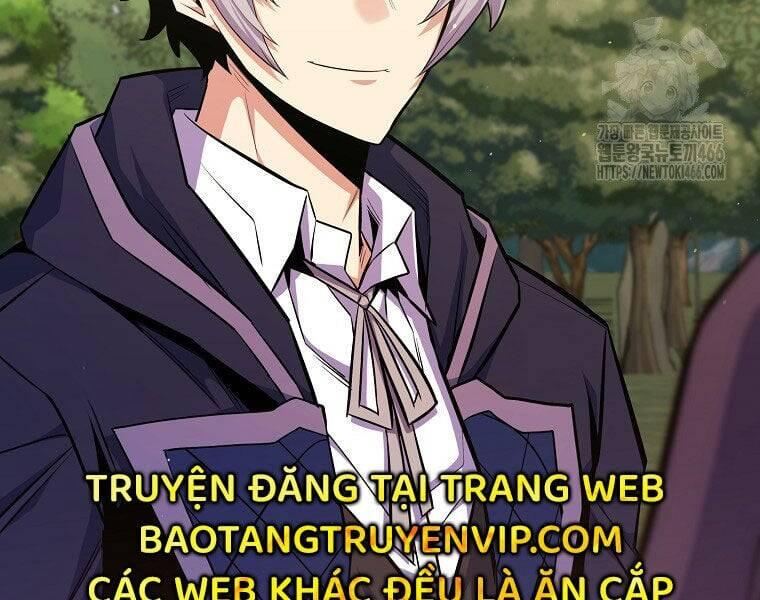quangcao: (84, 463, 678, 600)
